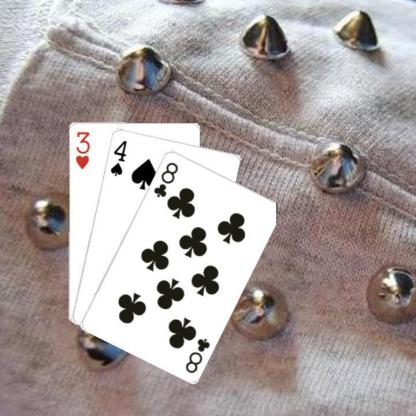3H: (73, 129, 91, 170)
4S: (107, 137, 128, 177)
8C: (182, 335, 212, 375), (151, 159, 179, 198)
